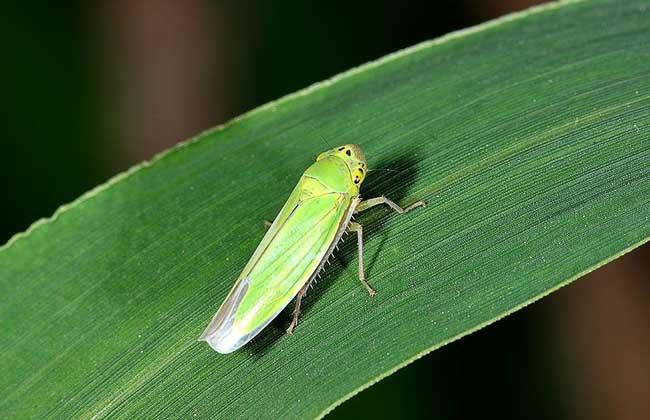Cicadellidae: (197, 144, 428, 355)
